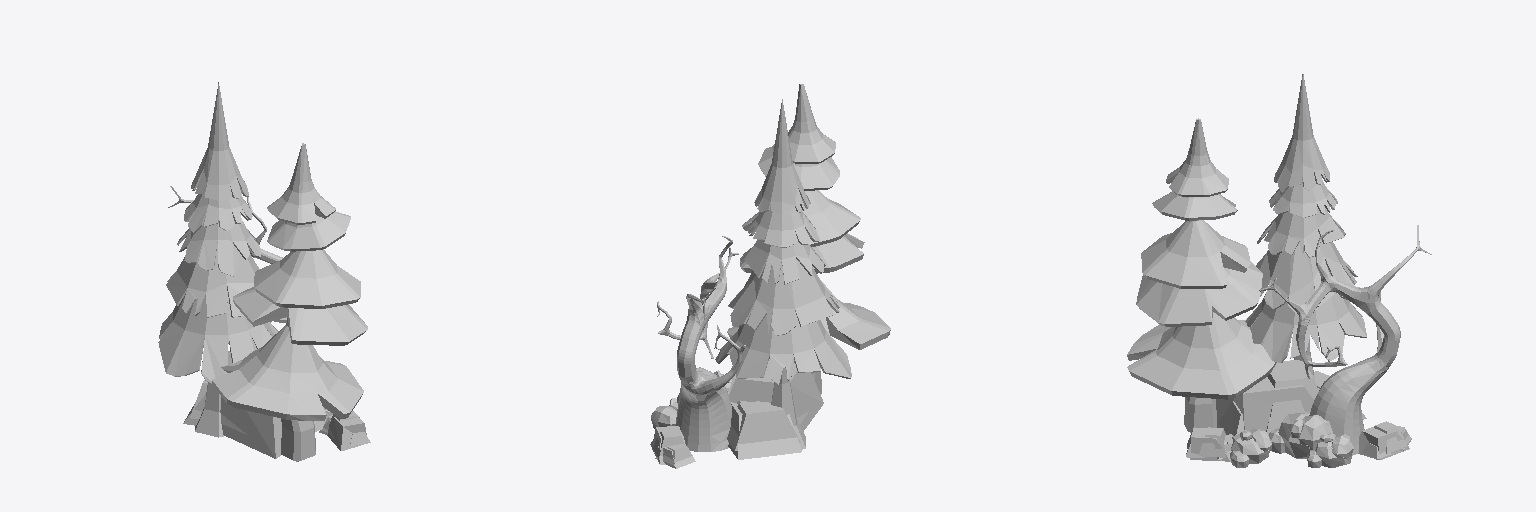
The model's file is tree-set_snow-dead.obj.
The picture shows the model from 3 angles: view 1: azimuth 30°, elevation 25°; view 2: azimuth 150°, elevation 25°; view 3: azimuth 270°, elevation 25°; orthographic projection.
Visible parts, largest first — view 1: tree_pine_SC_04.004, Cylinder.007; view 2: Cylinder.007, tree_pine_SC_04.004; view 3: Cylinder.007, tree_pine_SC_04.004.
Boxes of the visible parts, <box> form: tree_pine_SC_04.004: <box>212,143,367,461</box>; Cylinder.007: <box>158,82,370,458</box>; Cylinder.007: <box>650,99,851,468</box>; tree_pine_SC_04.004: <box>727,84,890,394</box>; Cylinder.007: <box>1186,74,1431,467</box>; tree_pine_SC_04.004: <box>1127,118,1276,432</box>.
Bounding box in the file's own units: 3.82 × 7.26 × 5.84.